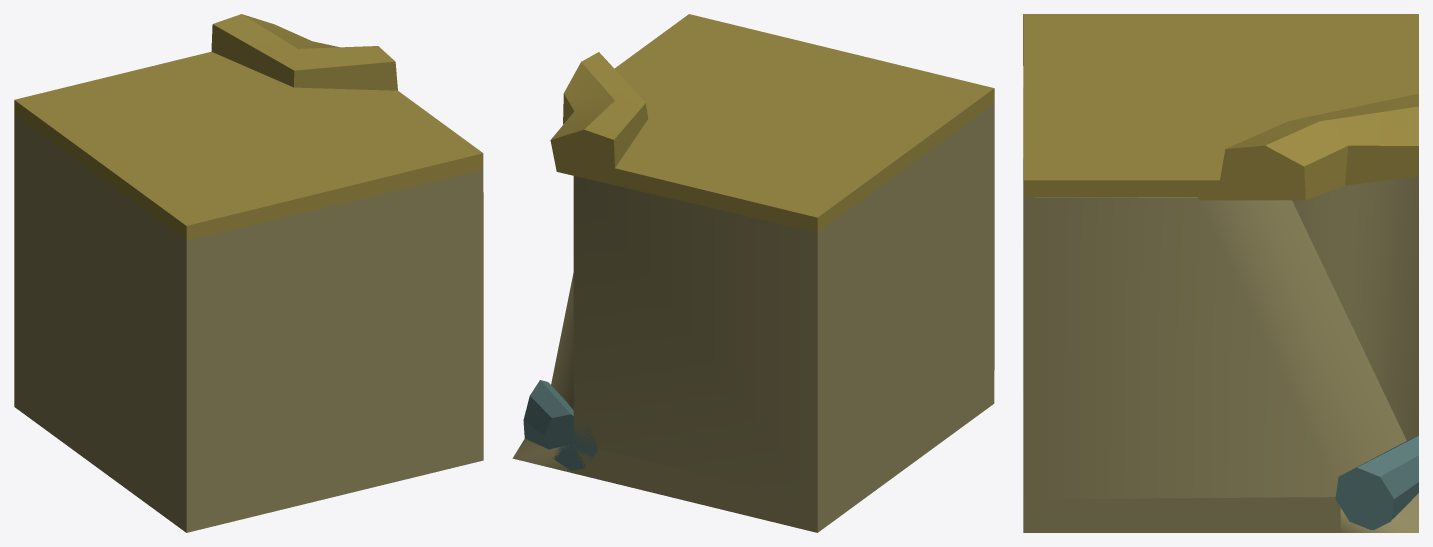
The model's file is Int_13_Wall_Cross_connector__25.fbx.
3 views of the same model, side by side, from view 1: azimuth 30°, elevation 25°; view 2: azimuth 150°, elevation 25°; view 3: azimuth 270°, elevation 25° (orthographic). The views are drawn at different scales.
Parts seen in each view (by area): view 1: Int_13_Wall_Cross_connector__25; view 2: Int_13_Wall_Cross_connector__25; view 3: Int_13_Wall_Cross_connector__25.
Boxes of the visible parts, x1,y1,x2,y2 form: Int_13_Wall_Cross_connector__25: (14, 14, 483, 532); Int_13_Wall_Cross_connector__25: (512, 14, 994, 532); Int_13_Wall_Cross_connector__25: (1023, 14, 1418, 532).
Size of the model in its own units: 0.9977 by 1.08 by 0.9986.
